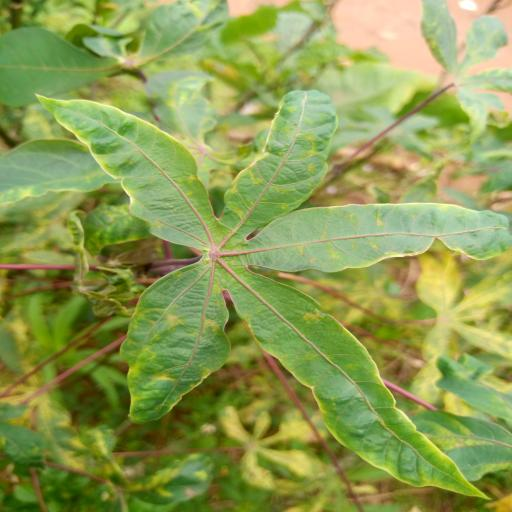Cassava_Mosaic: (28, 81, 504, 507)
